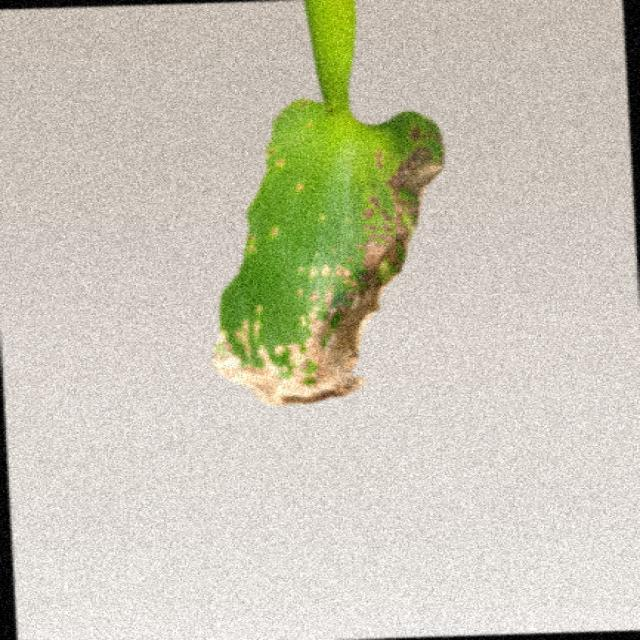daun berpenyakit bercak: (213, 0, 443, 404)
